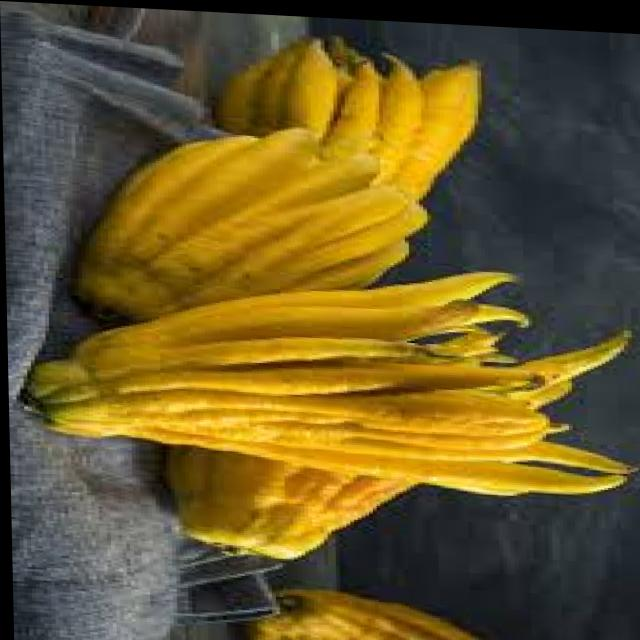PhatThu: (19, 262, 640, 500), (39, 123, 448, 320)
